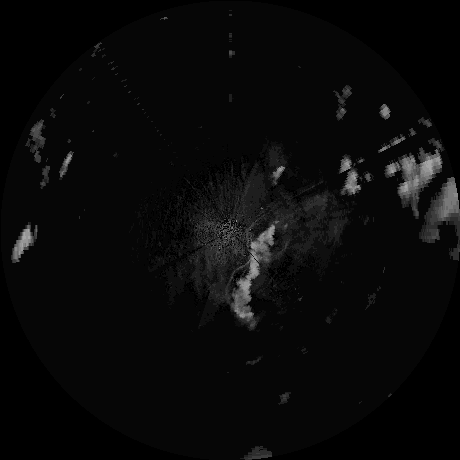frontgust: (223, 262, 248, 305), (244, 218, 261, 251)
